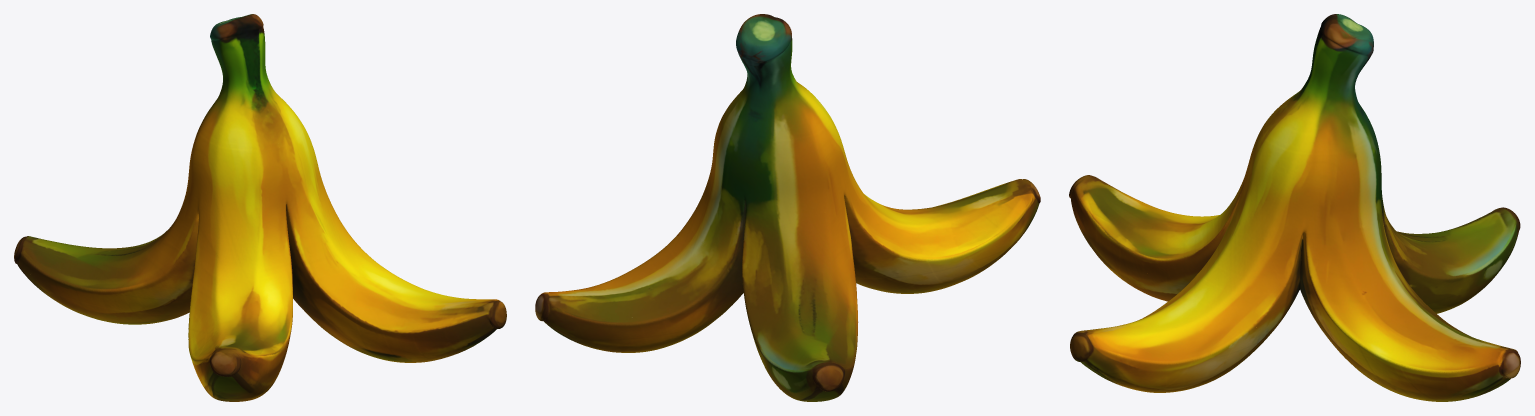
The model's file is Banana.fbx.
3 renders of one model, left to right at view 1: azimuth 30°, elevation 25°; view 2: azimuth 150°, elevation 25°; view 3: azimuth 270°, elevation 25°, orthographic. The views are drawn at different scales.
Parts seen in each view (by area): view 1: tripo_node_7ebcf7c8; view 2: tripo_node_7ebcf7c8; view 3: tripo_node_7ebcf7c8.
Part boxes in pixels (x1,y1,x2,y2): tripo_node_7ebcf7c8: [14, 14, 506, 401]; tripo_node_7ebcf7c8: [535, 14, 1040, 401]; tripo_node_7ebcf7c8: [1069, 14, 1520, 401].
Size of the model in its own units: 81.14 by 100 by 81.02.
